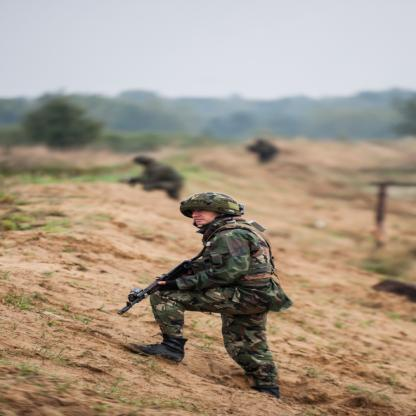Helmet: (174, 195, 244, 231)
